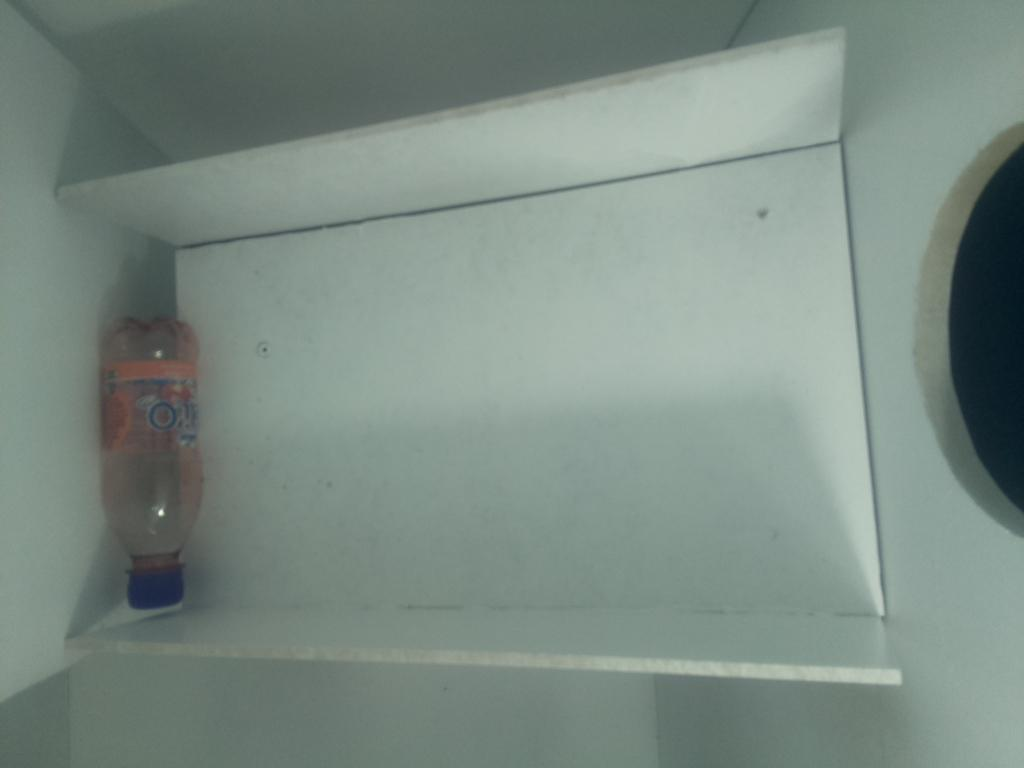BIODEGRADABLE: (65, 287, 245, 631)
